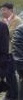boots: (0, 94, 7, 100), (17, 95, 23, 100)
hard-hat: (13, 0, 23, 7)
